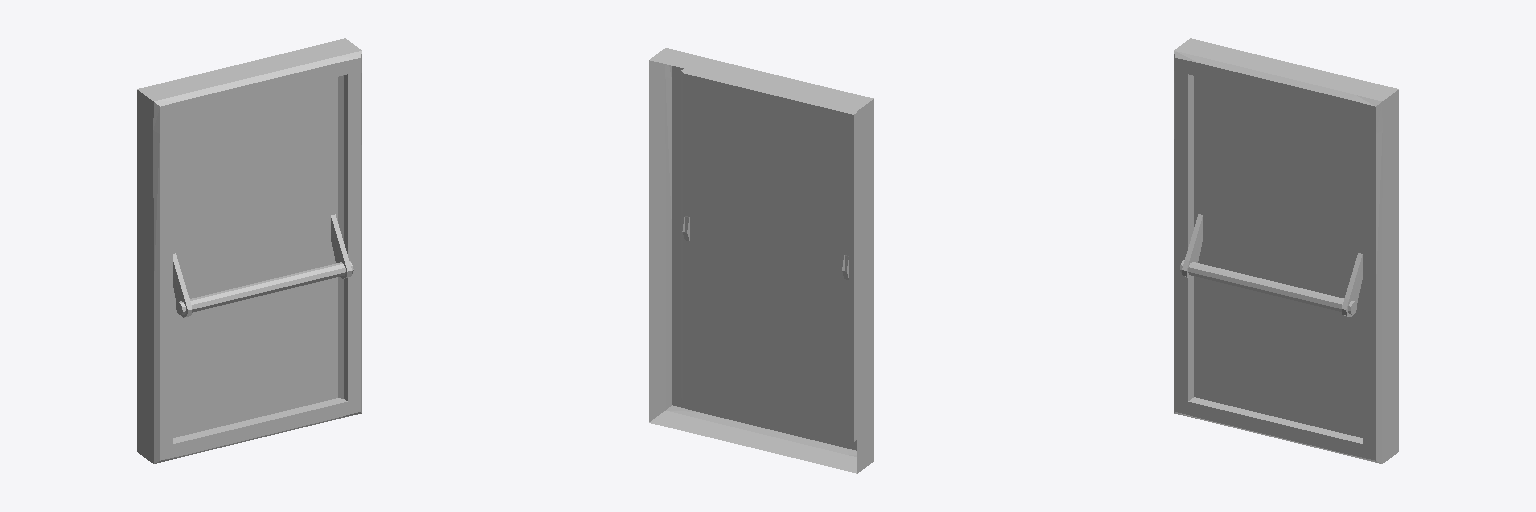
The model's file is fire exit.obj.
The picture shows the model from 3 angles: view 1: azimuth 30°, elevation 25°; view 2: azimuth 150°, elevation 25°; view 3: azimuth 330°, elevation 25°; orthographic projection.
Visible parts, largest first — view 1: fire_exit; view 2: fire_exit; view 3: fire_exit.
Part boxes in pixels (x1,y1,x2,y2): fire_exit: (137, 38, 361, 463); fire_exit: (649, 48, 873, 473); fire_exit: (1174, 38, 1398, 463).
Bounding box in the file's own units: 138 × 229 × 34.34.